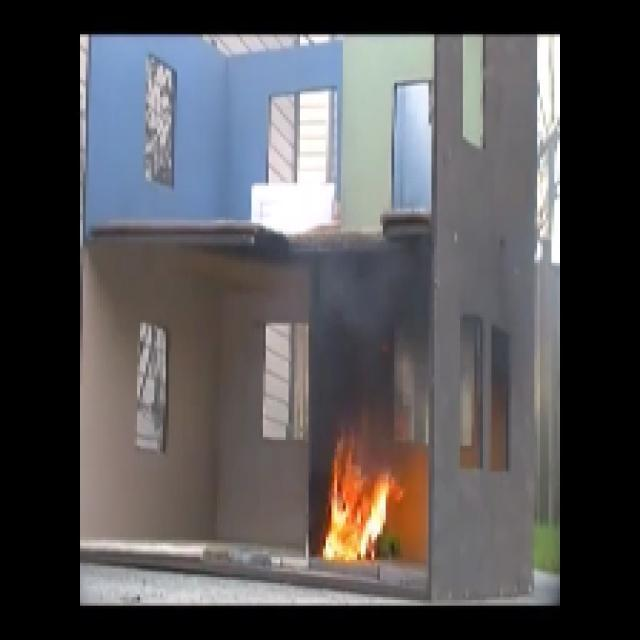Fire: (317, 456, 394, 558)
